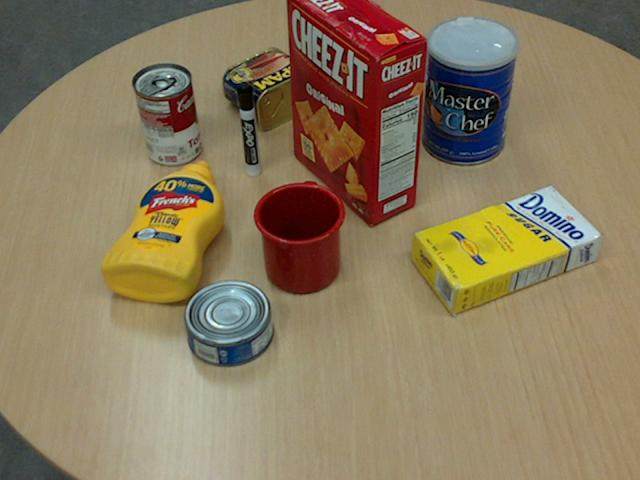cracker_box: (287, 0, 426, 222)
gelatin_box: (338, 47, 406, 107)
large_marker: (236, 83, 259, 177)
master_chef_can: (421, 17, 517, 166)
mug: (251, 181, 344, 293)
mustard_bottle: (100, 160, 224, 301)
potted_meat_can: (222, 47, 323, 128)
sugar_box: (410, 186, 602, 316)
tomato_soup_can: (132, 61, 200, 164)
tuna_fish_can: (183, 280, 272, 366)
